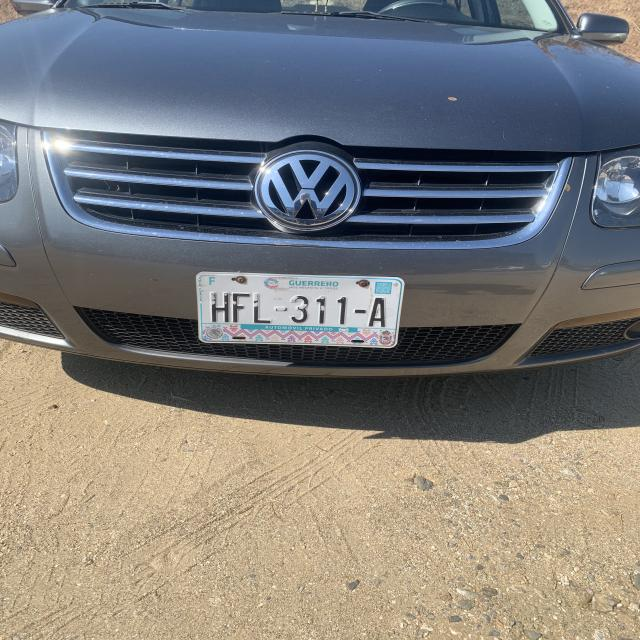placa: (201, 286, 398, 331)
